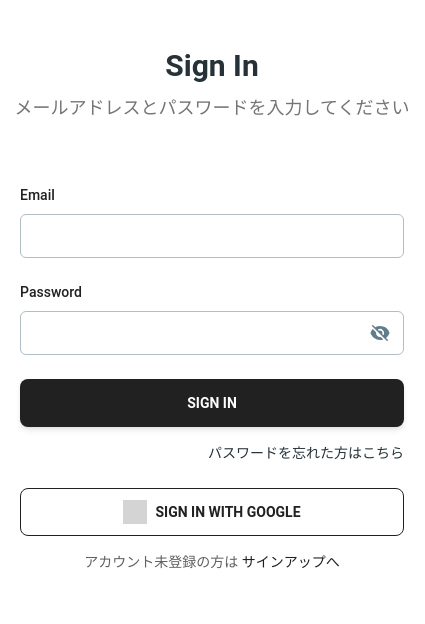
Scenario: SignInForm › メールが未確認の場合、エラーメッセージを表示する
In the field labelled "Email": (212, 236) left=20, top=214, right=404, bottom=258, type "test@example.com"
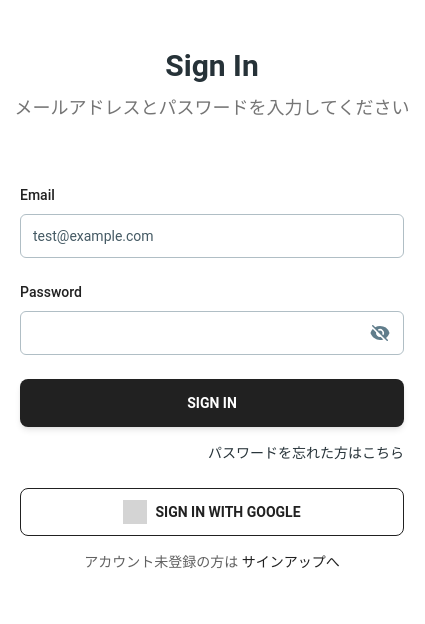
In the password field labelled "Password": (212, 333) left=20, top=311, right=404, bottom=355, type "password123"
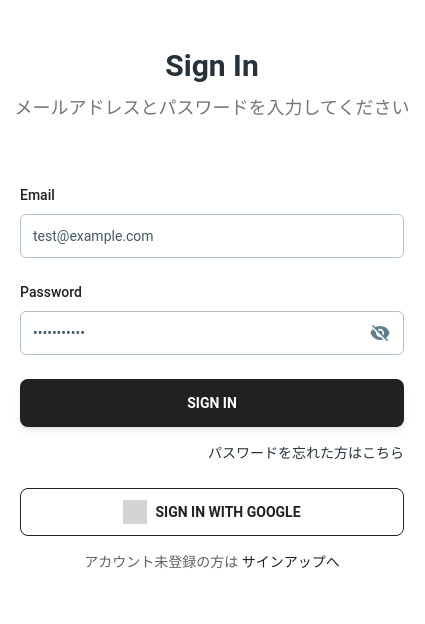
Click the button "Sign In": (212, 403) left=20, top=379, right=404, bottom=427
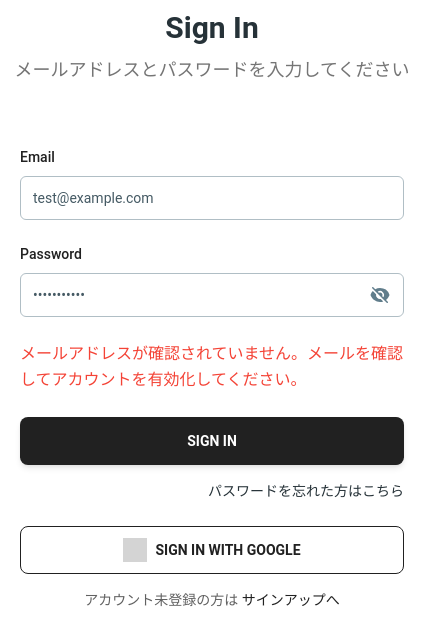
Check: the text "メールアドレスが確認されていません。メールを確認してアカウントを有効化してください。" is shown, box left=20, top=341, right=404, bottom=393
